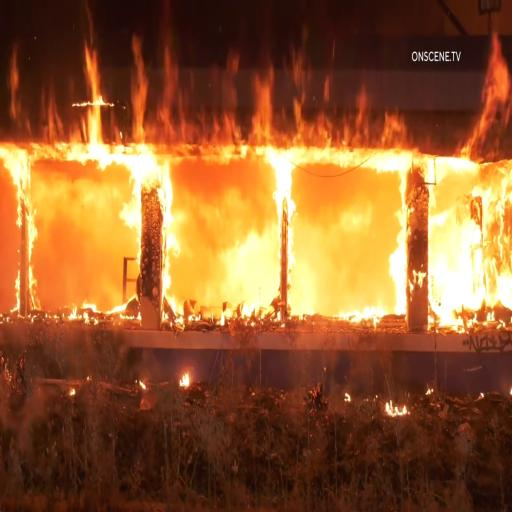fire: (12, 10, 136, 302), (159, 10, 274, 304), (295, 26, 405, 313), (434, 66, 510, 328)
